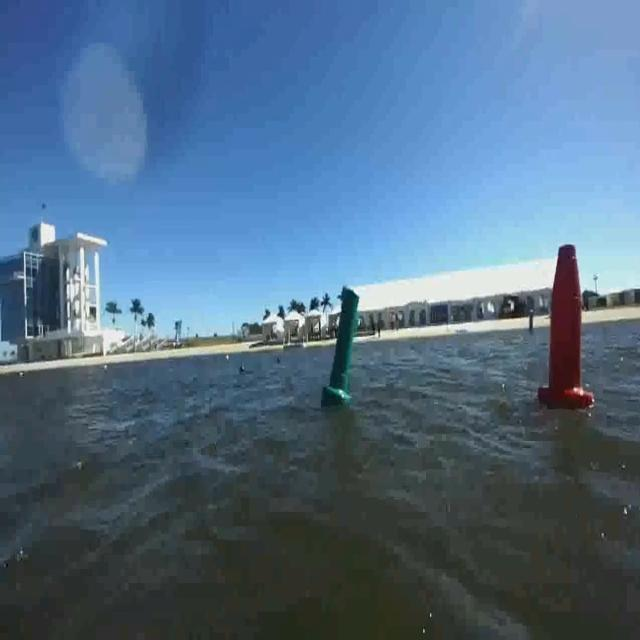green-column-buoy: (324, 288, 362, 406)
red-column-buoy: (539, 242, 595, 416)
